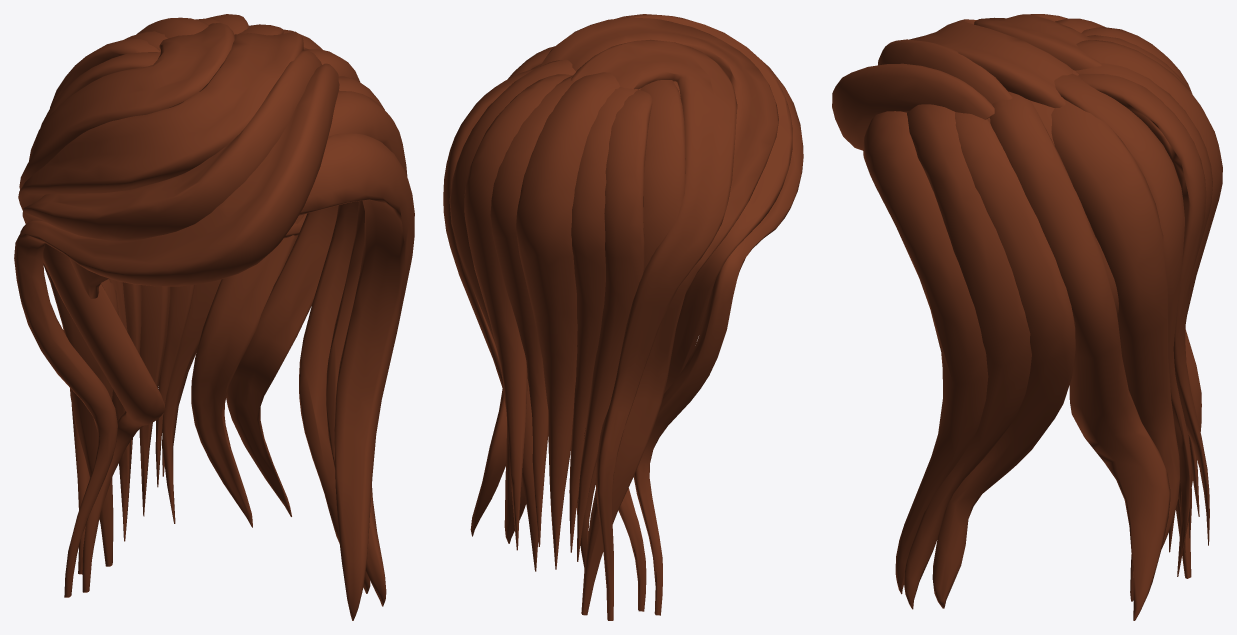
Rendered from hair-4-82428ac4.glb.
3 renders of one model, left to right at view 1: azimuth 30°, elevation 25°; view 2: azimuth 150°, elevation 25°; view 3: azimuth 270°, elevation 25°, orthographic. The views are drawn at different scales.
Parts seen in each view (by area): view 1: hair_4.001; view 2: hair_4.001; view 3: hair_4.001.
Boxes of the visible parts, x1,y1,x2,y2 form: hair_4.001: [14, 14, 414, 620]; hair_4.001: [443, 14, 803, 620]; hair_4.001: [832, 14, 1222, 620].
Size of the model in its own units: 2.02 by 3.35 by 2.12.
